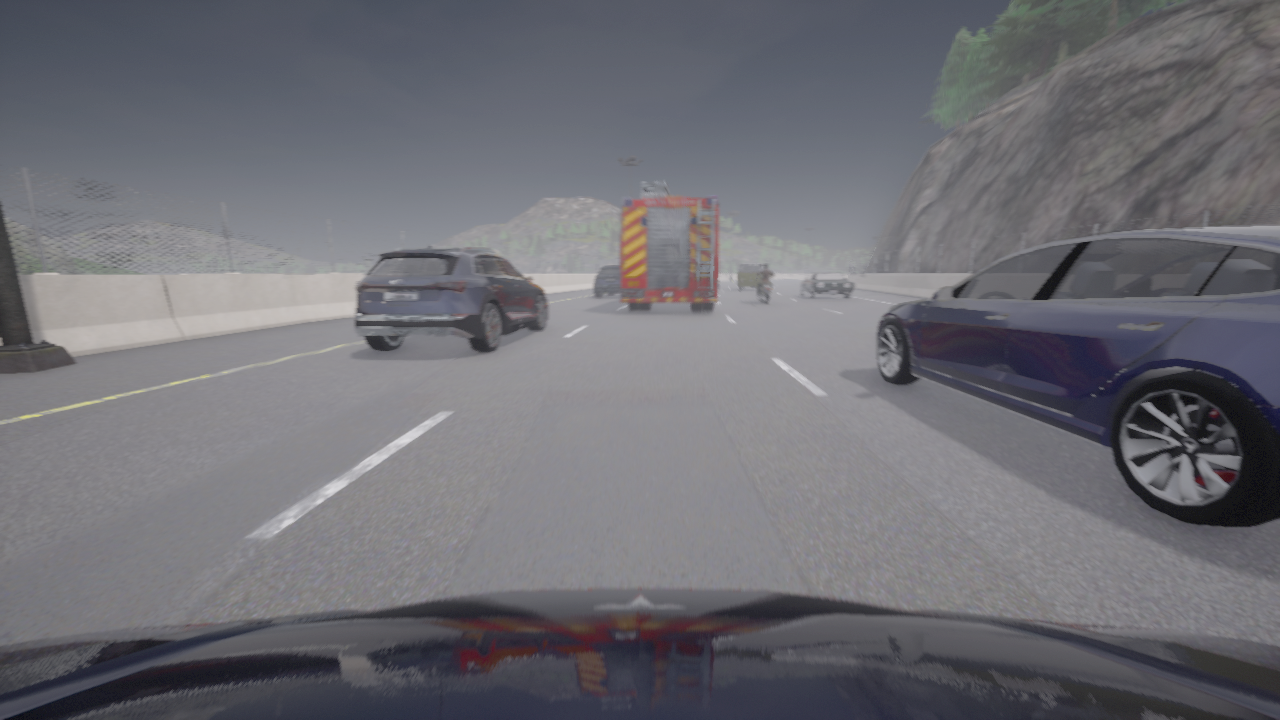cyclist: (0, 588, 1279, 719), (875, 225, 1279, 527), (354, 244, 547, 352), (620, 181, 718, 310), (799, 271, 854, 298), (594, 265, 620, 297), (738, 263, 762, 289), (758, 277, 771, 304), (717, 278, 718, 288)
